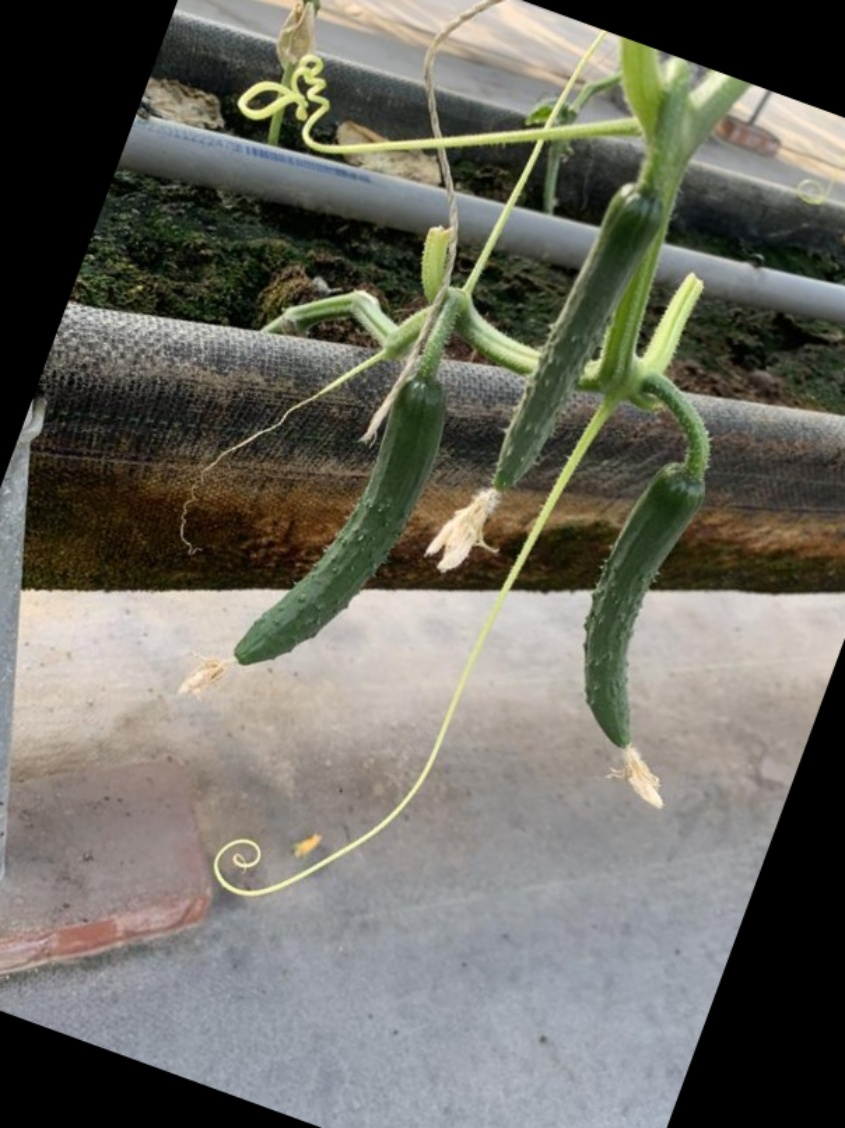growth: (482, 182, 662, 502), (554, 458, 711, 793)
